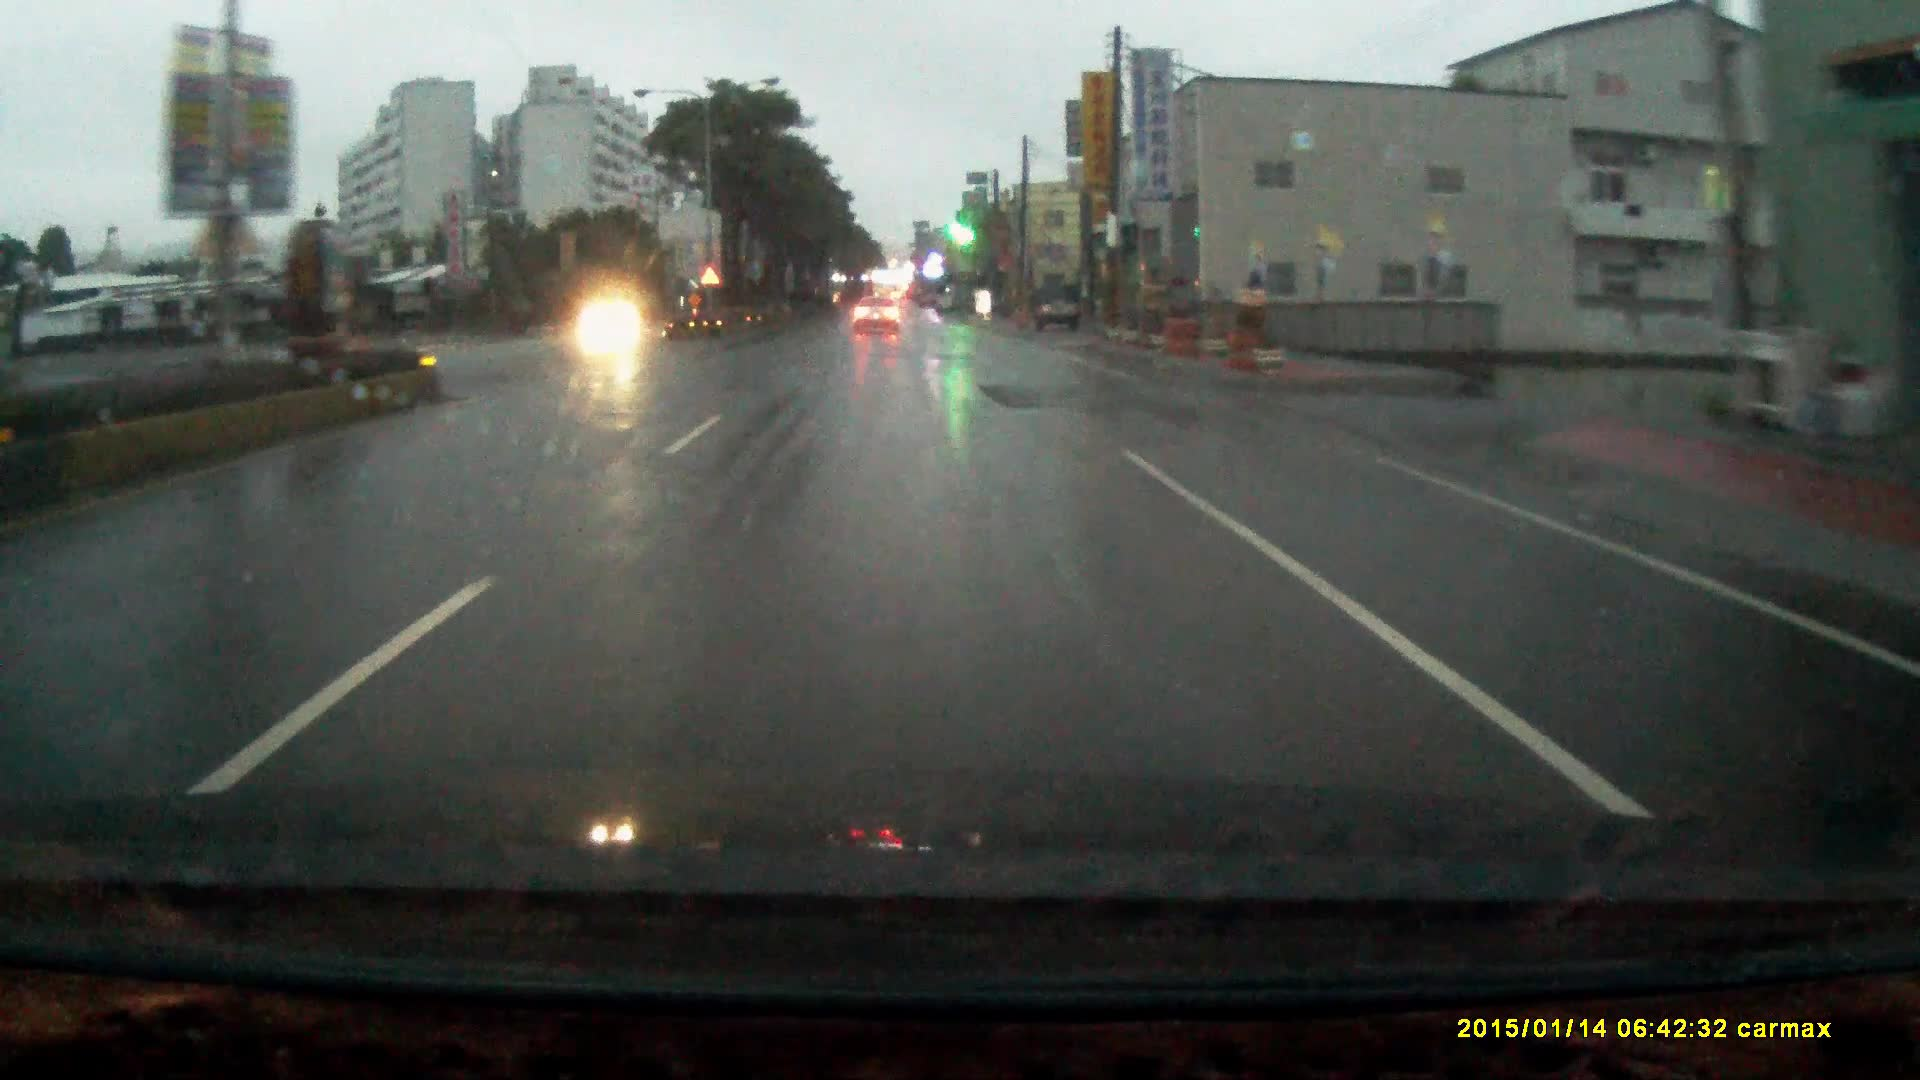vehicle: (1036, 287, 1083, 338), (848, 301, 899, 336)
